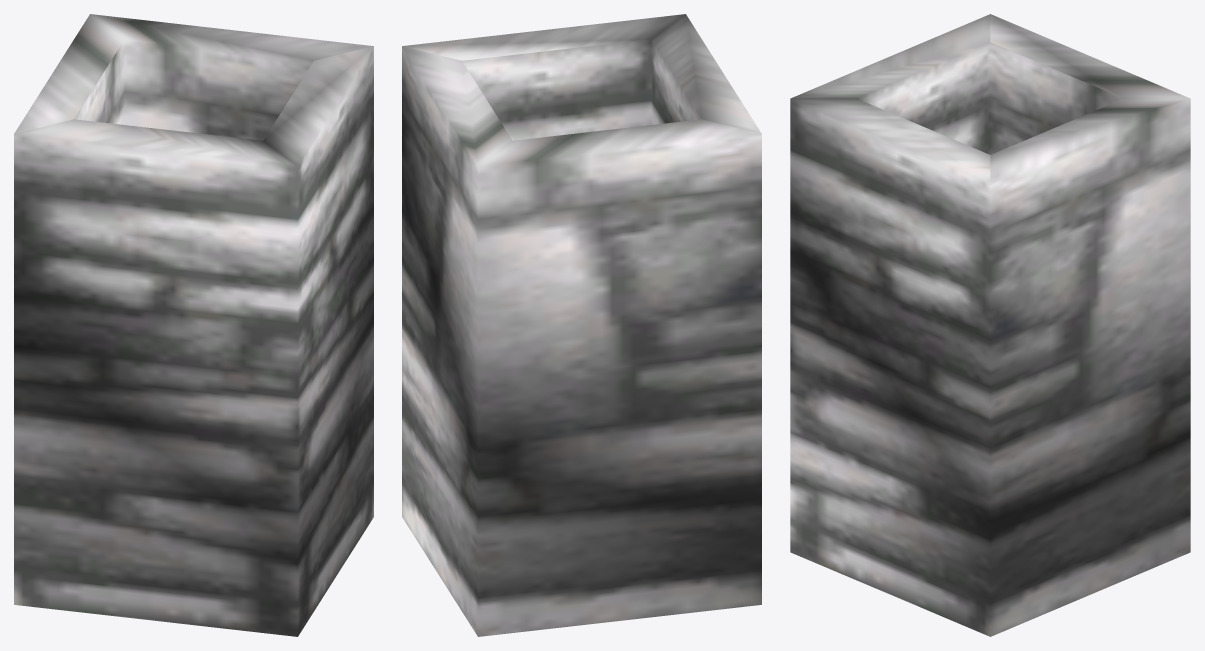
File: INST_HTOWN_CHIMNEY.fbx
3 renders of one model, left to right at view 1: azimuth 30°, elevation 25°; view 2: azimuth 150°, elevation 25°; view 3: azimuth 270°, elevation 25°, orthographic. The views are drawn at different scales.
Visible parts, largest first — view 1: INST_HTOWN_CHIMNEY; view 2: INST_HTOWN_CHIMNEY; view 3: INST_HTOWN_CHIMNEY.
Boxes of the visible parts, bbox=[...] form: INST_HTOWN_CHIMNEY: bbox=[14, 14, 373, 636]; INST_HTOWN_CHIMNEY: bbox=[402, 14, 761, 636]; INST_HTOWN_CHIMNEY: bbox=[790, 14, 1190, 636].
Bounding box in the file's own units: 8400 × 10500 × 8400.
Materials: 1 (1 with a texture image).
